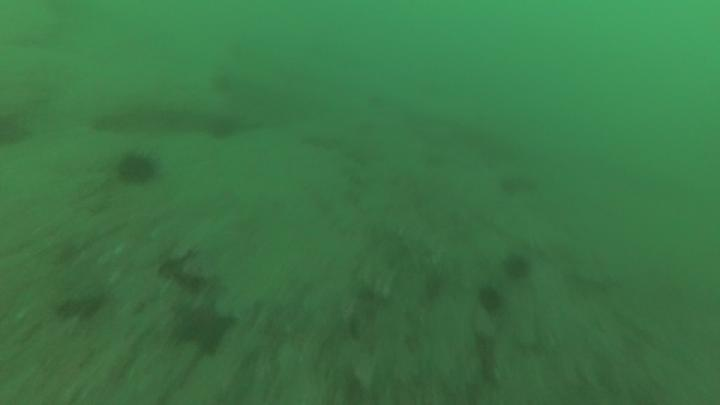echinus: (117, 154, 154, 183), (504, 173, 532, 195), (505, 253, 527, 280), (477, 284, 499, 309)
starfish: (173, 300, 234, 356)
